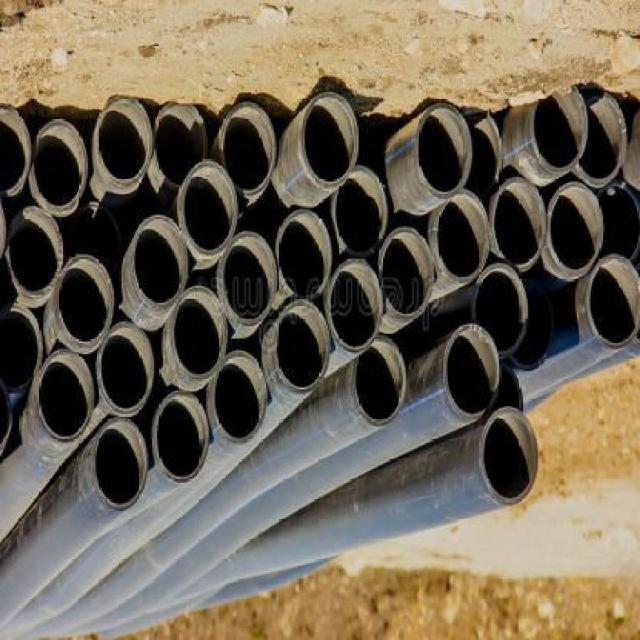pipe: (177, 160, 237, 259), (300, 91, 360, 190), (479, 408, 539, 506), (442, 323, 502, 420), (216, 231, 277, 326), (169, 285, 228, 382), (129, 214, 188, 310), (54, 256, 114, 350), (35, 350, 94, 445), (433, 188, 491, 284), (89, 417, 148, 511), (95, 322, 154, 416), (416, 102, 473, 199), (94, 94, 153, 187), (326, 258, 383, 354), (471, 263, 527, 359), (153, 391, 210, 485), (209, 351, 266, 445), (273, 300, 330, 394), (546, 181, 603, 274), (586, 253, 640, 351), (5, 206, 63, 297), (330, 166, 388, 257), (30, 120, 88, 211), (378, 226, 434, 320), (220, 102, 276, 196), (351, 335, 407, 428), (275, 208, 331, 301), (491, 175, 547, 268), (575, 92, 628, 188), (531, 86, 588, 174), (152, 103, 206, 186), (2, 303, 44, 391), (465, 113, 503, 194), (2, 106, 31, 197)
